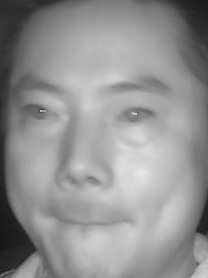eye: (111, 103, 157, 130), (21, 98, 63, 127)
mouth: (49, 200, 132, 244)
